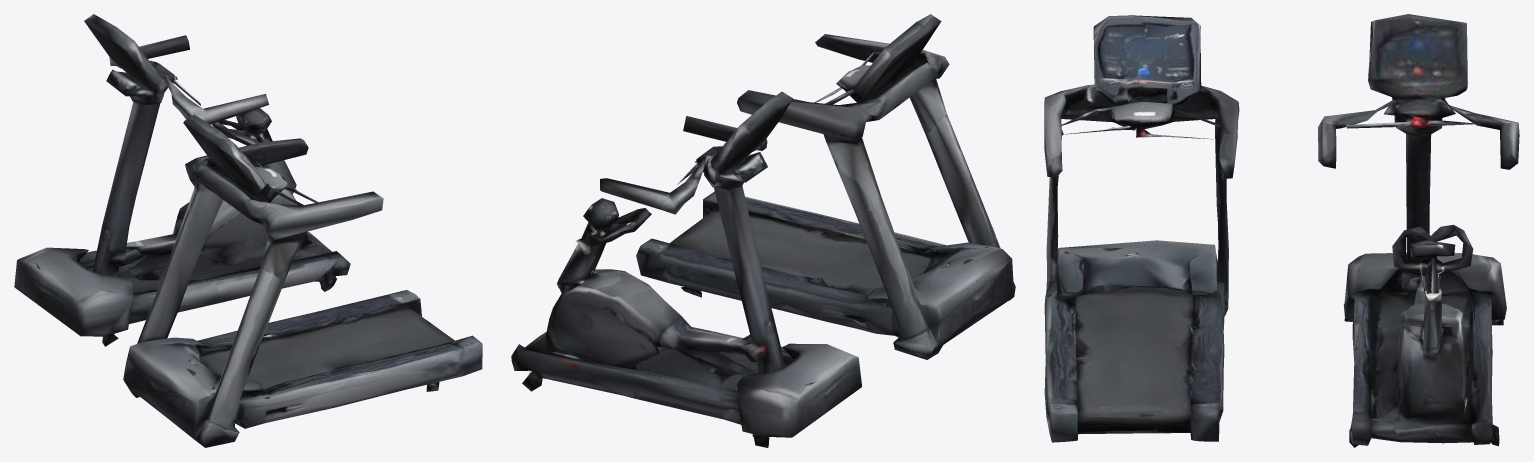
Rendered from innen_laufband.glb.
The picture shows the model from 3 angles, left to right: view 1: azimuth 30°, elevation 25°; view 2: azimuth 150°, elevation 25°; view 3: azimuth 270°, elevation 25°; orthographic projection. The views are drawn at different scales.
Parts seen in each view (by area): view 1: tripo_node_879a4cee-c8a8-4c59-a209-7ad0912d360a; view 2: tripo_node_879a4cee-c8a8-4c59-a209-7ad0912d360a; view 3: tripo_node_879a4cee-c8a8-4c59-a209-7ad0912d360a.
Part boxes in pixels (box(x1,y1,x2,y2)): tripo_node_879a4cee-c8a8-4c59-a209-7ad0912d360a: box(14, 14, 482, 447); tripo_node_879a4cee-c8a8-4c59-a209-7ad0912d360a: box(511, 14, 1015, 447); tripo_node_879a4cee-c8a8-4c59-a209-7ad0912d360a: box(1044, 14, 1519, 447).
Size of the model in its own units: 0.7987 by 0.7603 by 0.9904.
Materials: 1 (1 with a texture image).
